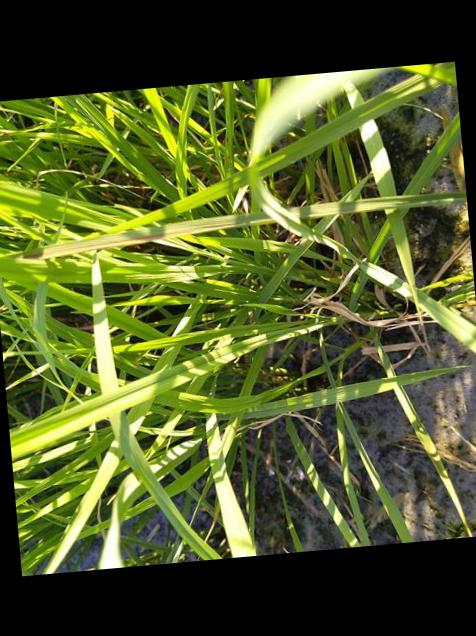Leaf Streak: (42, 214, 252, 255)
